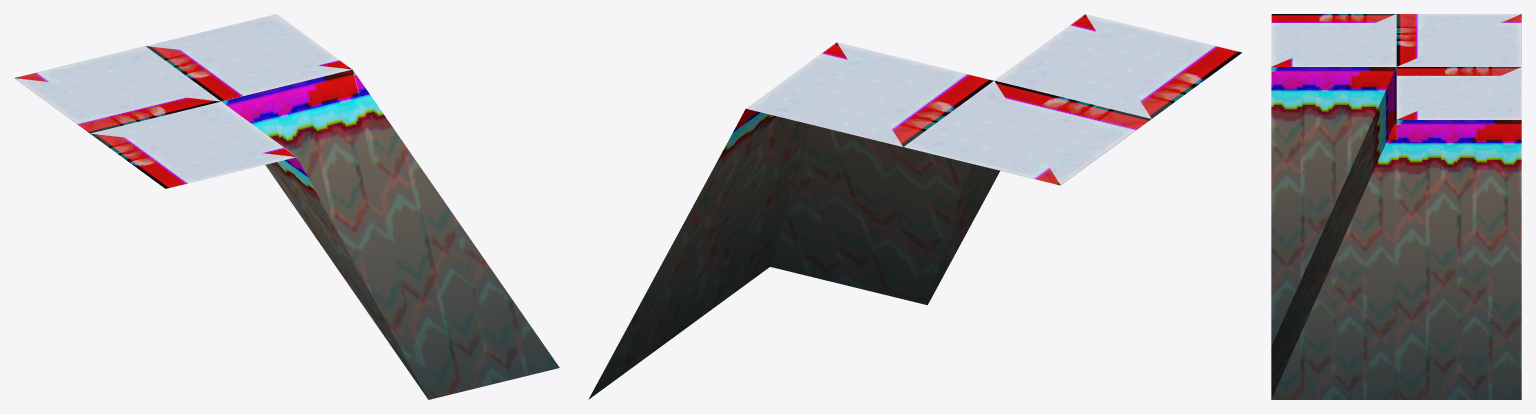
The model's file is arch_winter_wall_cornerOutIn_left.FBX.
3 views of the same model, side by side, from view 1: azimuth 30°, elevation 25°; view 2: azimuth 150°, elevation 25°; view 3: azimuth 270°, elevation 25° (orthographic). The views are drawn at different scales.
Visible parts, largest first — view 1: arch_winter_wall_cornerOutIn_left; view 2: arch_winter_wall_cornerOutIn_left; view 3: arch_winter_wall_cornerOutIn_left.
Boxes of the visible parts, left/top/right/bottom form: arch_winter_wall_cornerOutIn_left: left=14, top=14, right=559, bottom=399; arch_winter_wall_cornerOutIn_left: left=588, top=14, right=1242, bottom=399; arch_winter_wall_cornerOutIn_left: left=1271, top=14, right=1521, bottom=399.
Size of the model in its own units: 6 by 4 by 4.
1 material, 1 textured.
